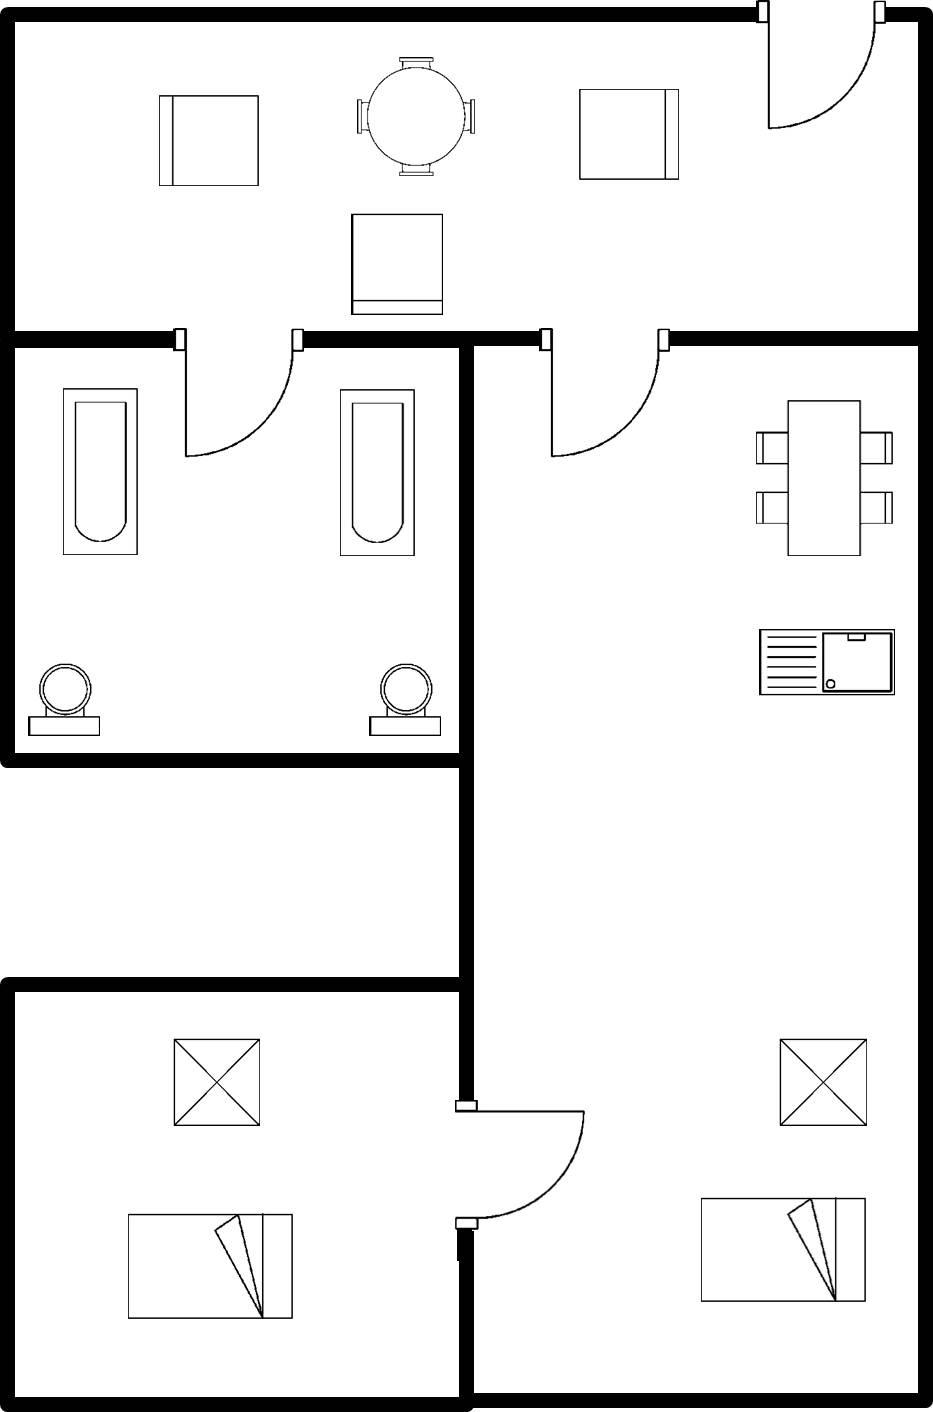bed: (116, 1203, 300, 1330), (690, 1187, 876, 1313)
dining_table: (741, 394, 900, 568)
round_table: (345, 49, 487, 184)
sink: (746, 619, 901, 705)
toilet: (356, 657, 446, 745), (19, 660, 108, 746)
tub: (324, 376, 429, 568), (53, 379, 146, 564)
